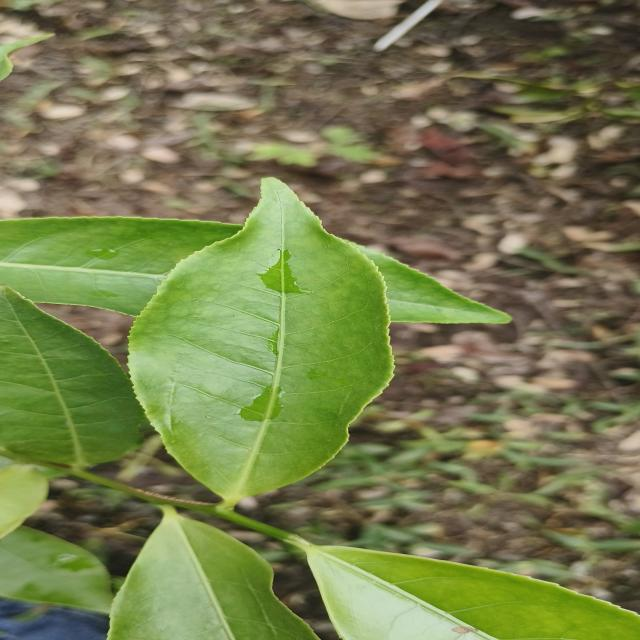Leaf: (130, 179, 392, 506), (305, 545, 640, 640), (108, 507, 317, 640), (0, 285, 144, 467), (0, 218, 241, 315), (348, 242, 511, 324), (0, 526, 112, 613)
